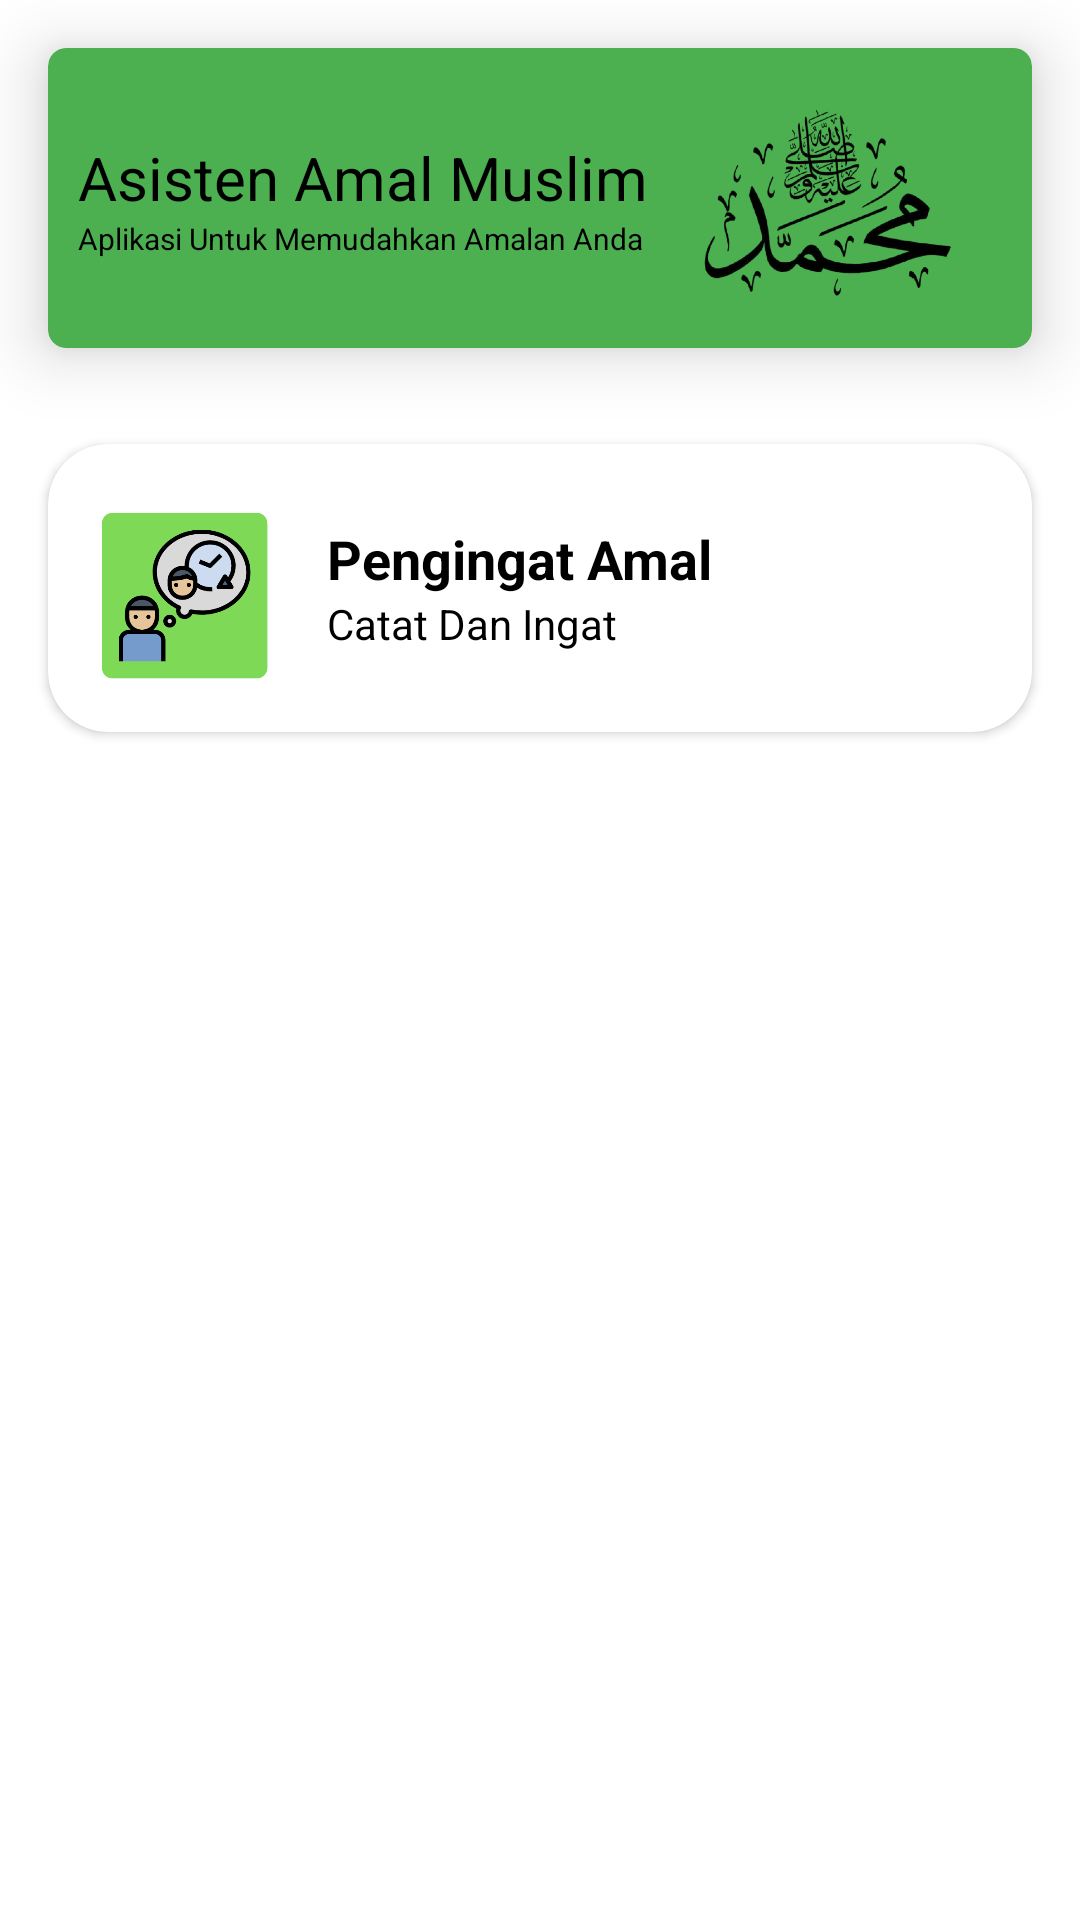

Where to tap for icons on this 1080 x 1920 app screen, as [x,y]:
sholawat: [827,203]
